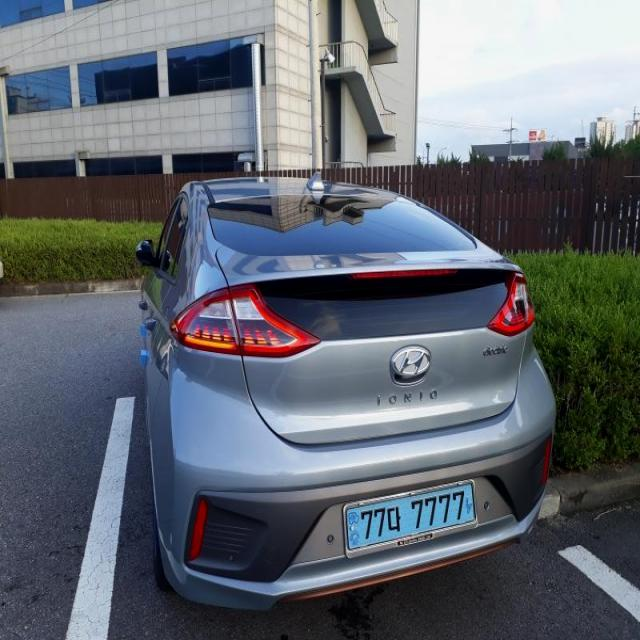EV_plate: (344, 478, 477, 560)
car: (131, 170, 559, 615)
